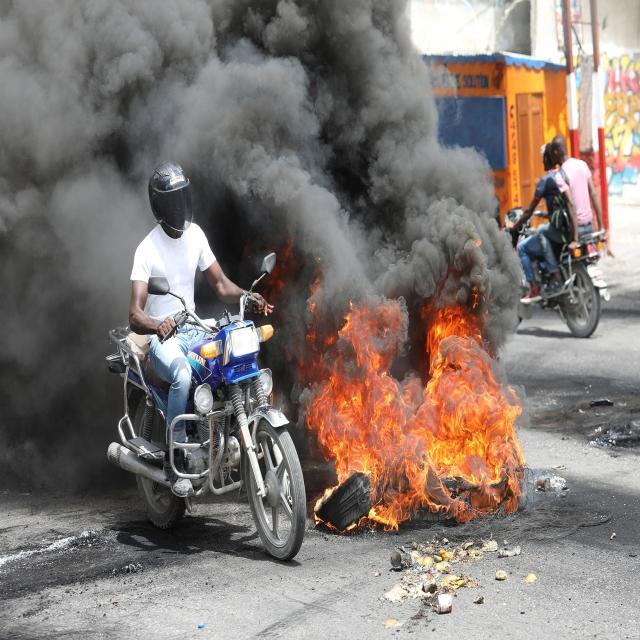Fire: (304, 275, 522, 532)
Smoke: (0, 0, 522, 501)
